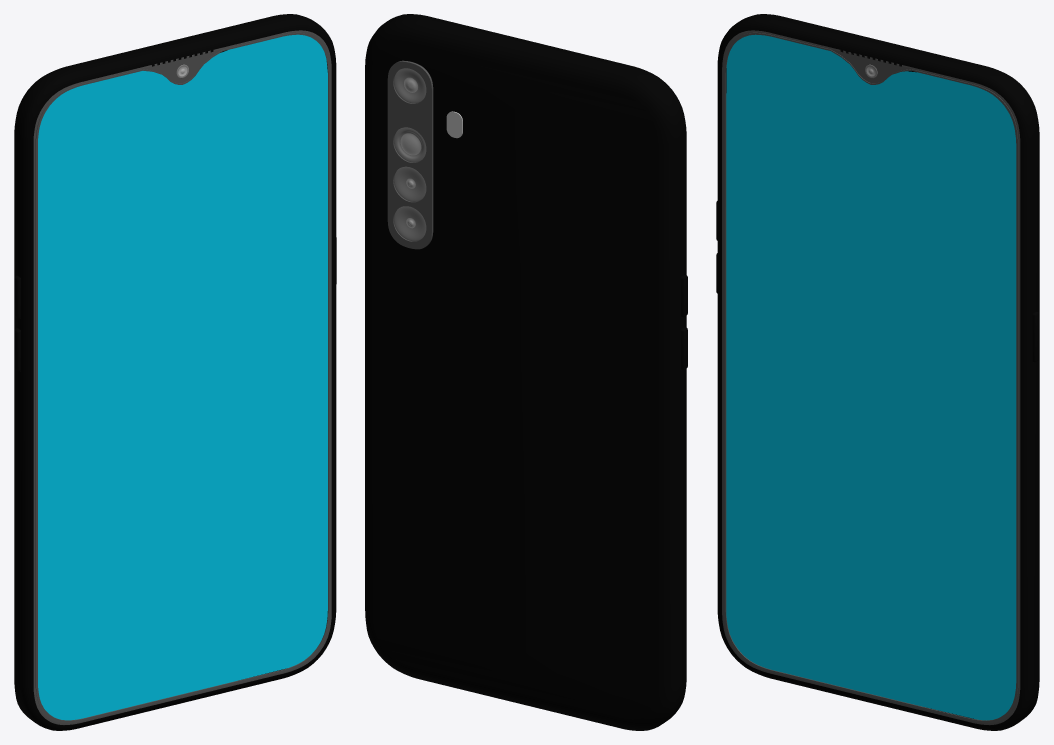
Rendered from phone.glb.
3 renders of one model, left to right at view 1: azimuth 30°, elevation 25°; view 2: azimuth 150°, elevation 25°; view 3: azimuth 330°, elevation 25°, orthographic.
Parts seen in each view (by area): view 1: Phone_0; view 2: Phone_0; view 3: Phone_0.
Part boxes in pixels (box(x1,y1,x2,y2)): Phone_0: box(14, 14, 336, 730); Phone_0: box(365, 14, 687, 730); Phone_0: box(716, 14, 1039, 730).
Size of the model in its own units: 0.097 by 0.1905 by 0.0104.
